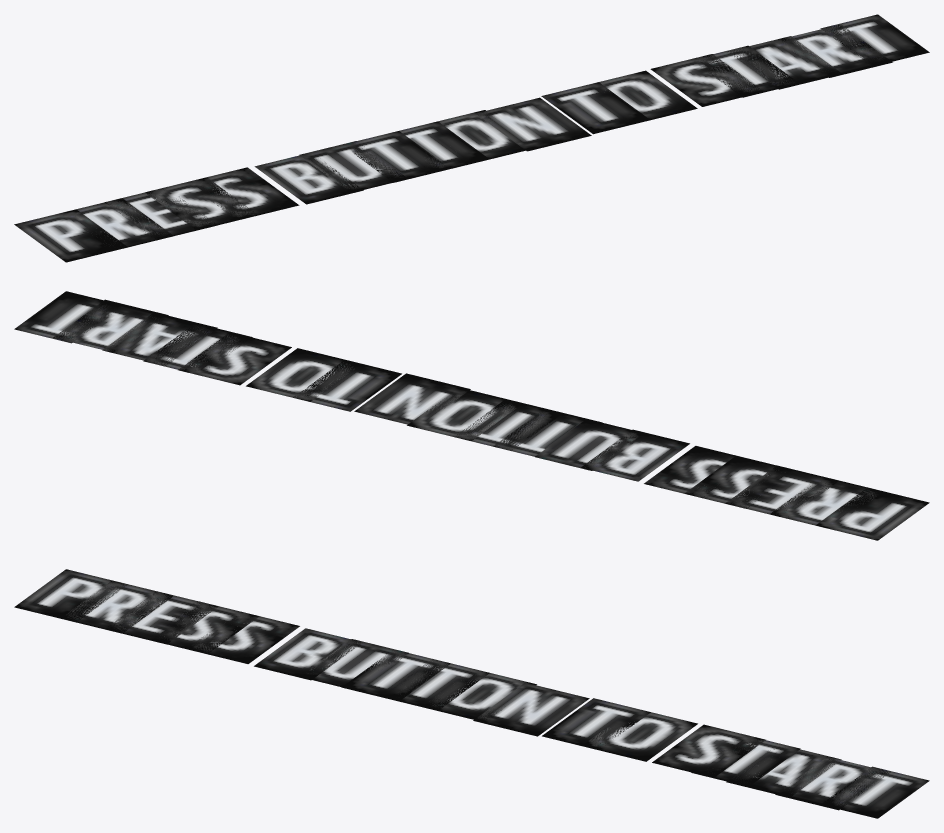
Rendered from Press Button To Start.FBX.
3 renders of one model, top to bottom at view 1: azimuth 30°, elevation 25°; view 2: azimuth 150°, elevation 25°; view 3: azimuth 330°, elevation 25°, orthographic.
Parts seen in each view (by area): view 1: Press Button To Start; view 2: Press Button To Start; view 3: Press Button To Start.
Boxes of the visible parts, x1=… form: Press Button To Start: x1=14, y1=14, x2=929, y2=262; Press Button To Start: x1=14, y1=291, x2=929, y2=540; Press Button To Start: x1=14, y1=569, x2=929, y2=818.
Bounding box in the file's own units: 254 × 27.6 × 0.
